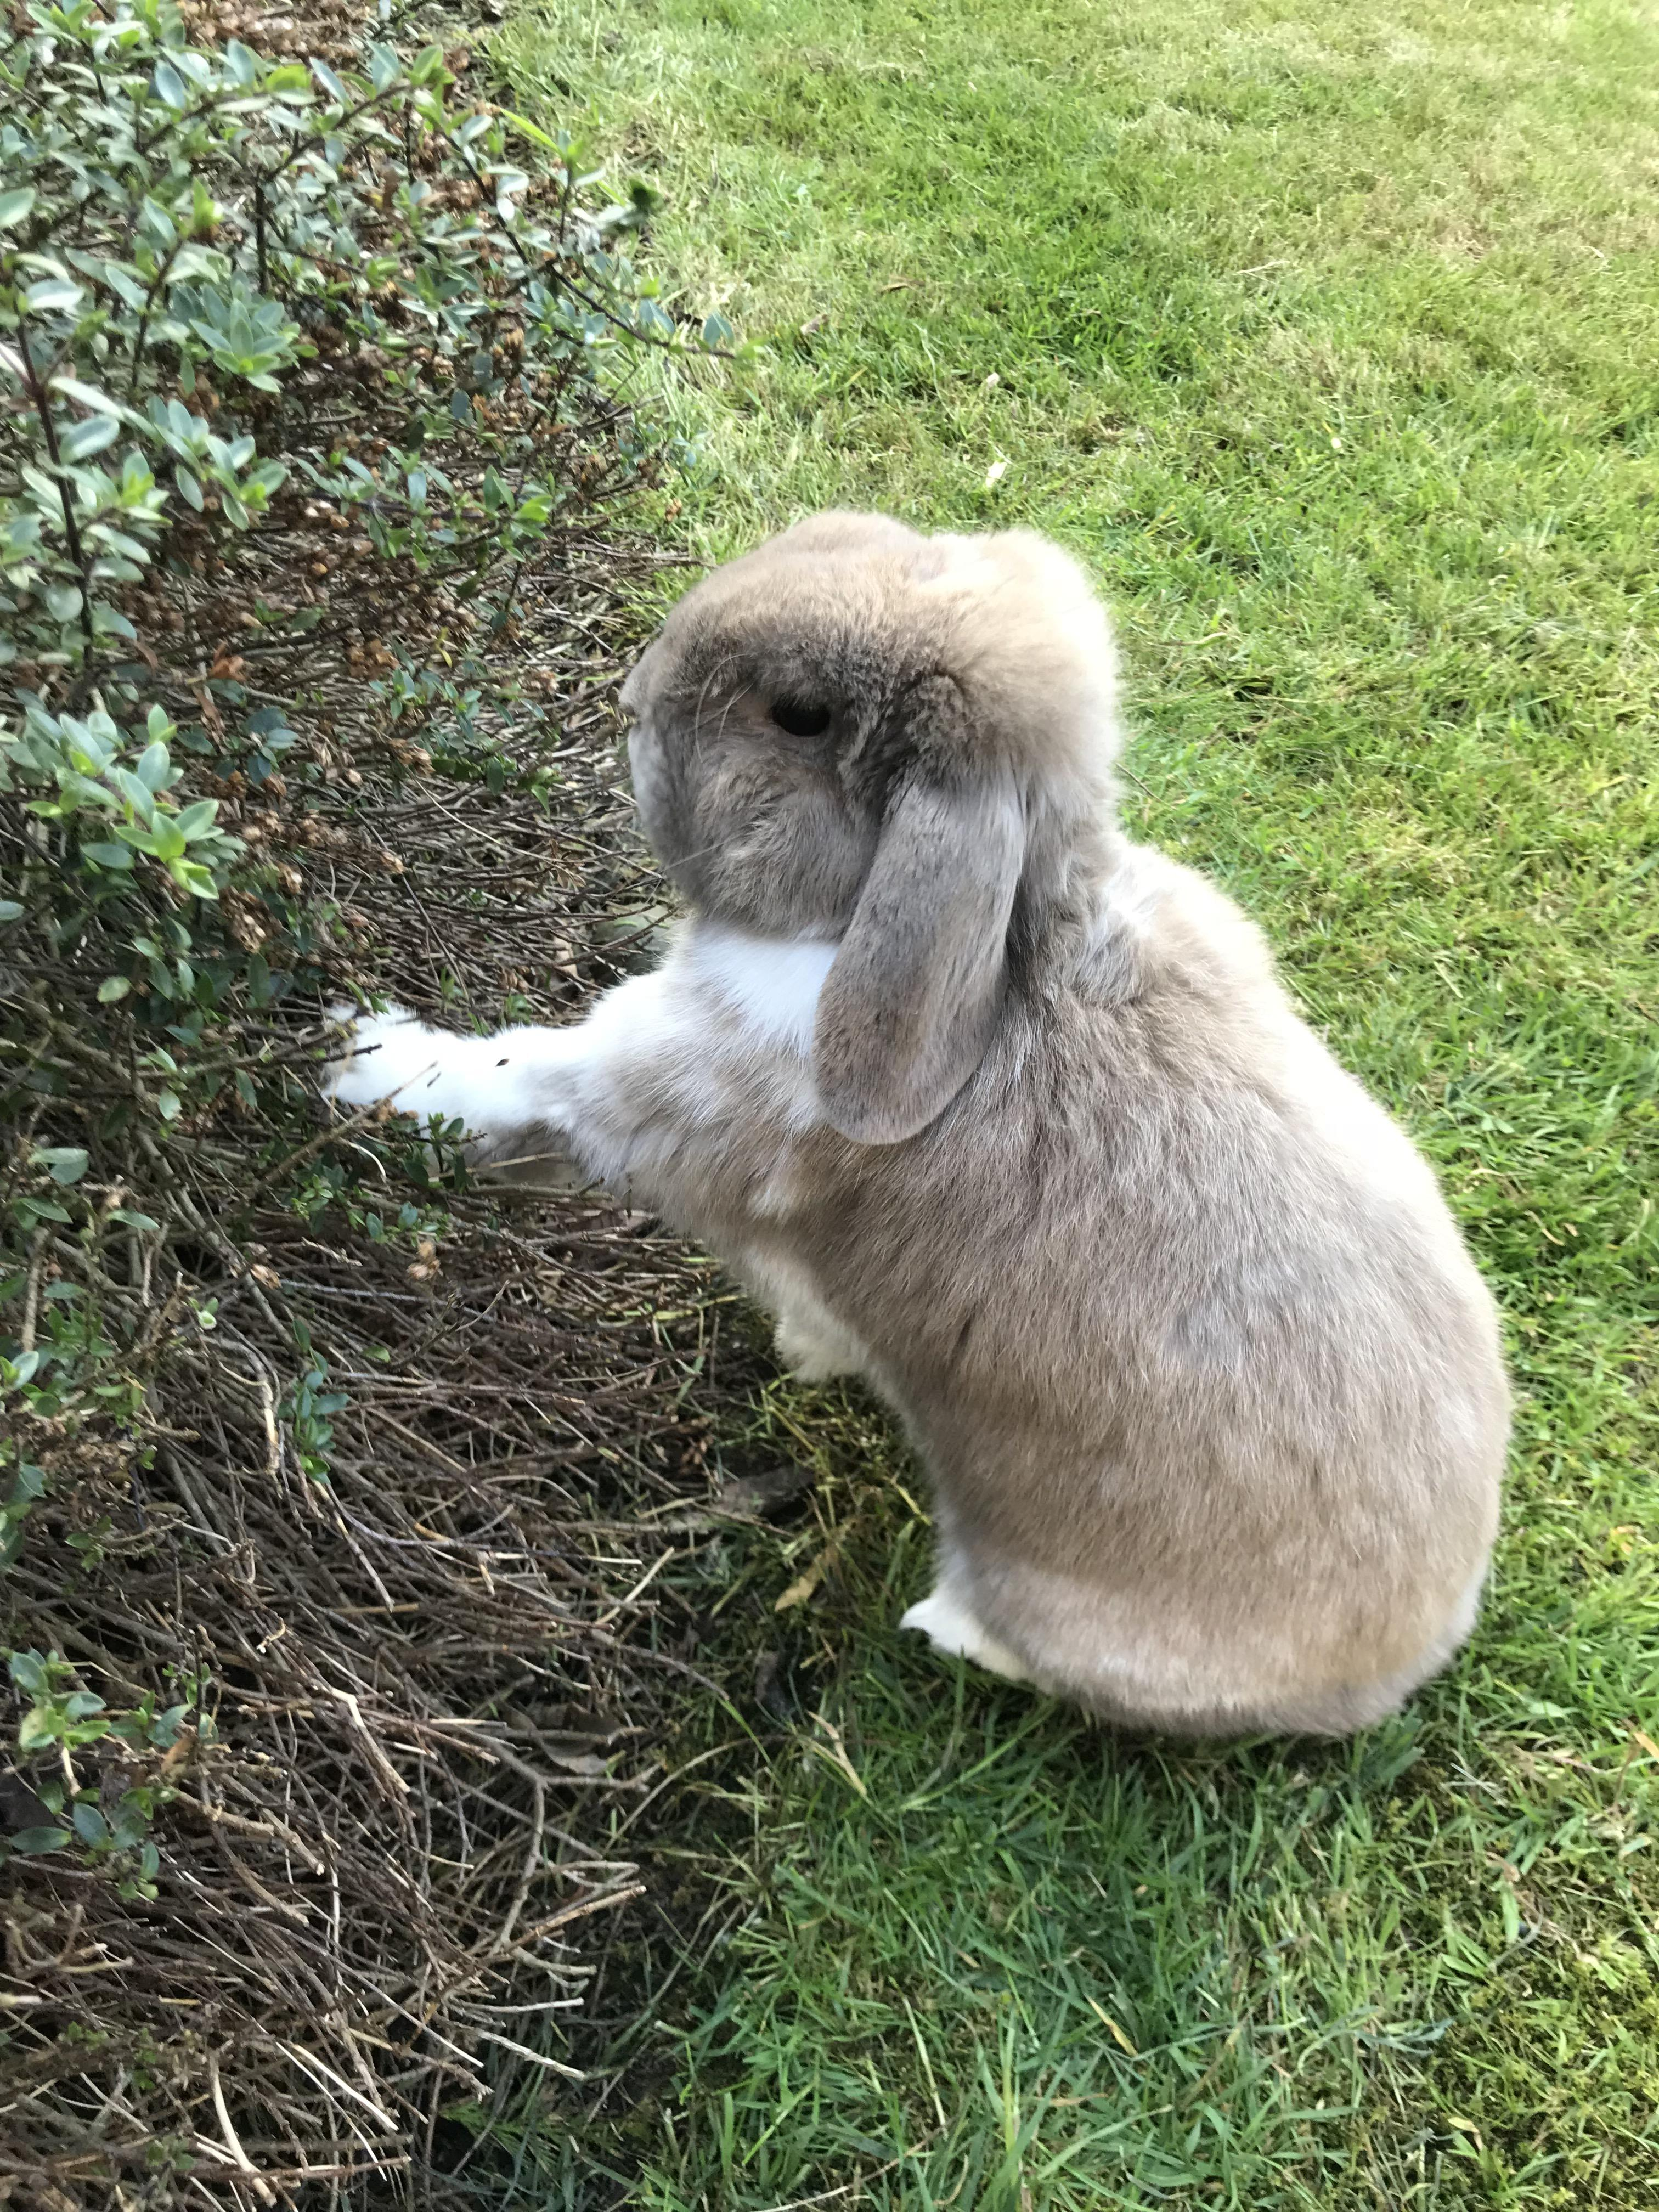bunny: (261, 460, 1561, 1799)
